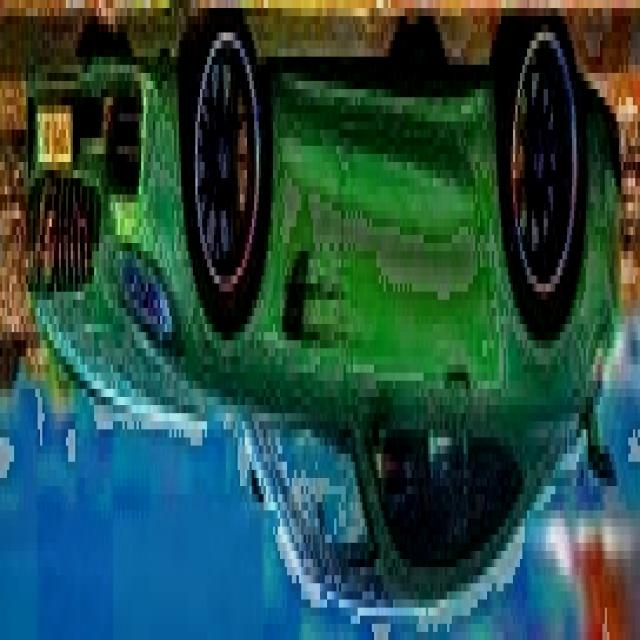green: (25, 32, 624, 592)
